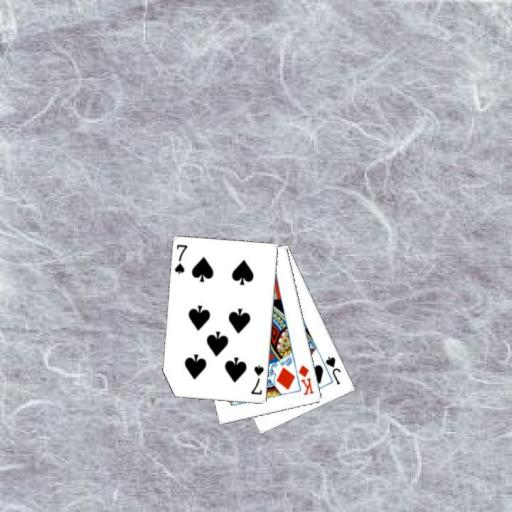7S: (248, 362, 265, 397), (172, 242, 189, 276)
JS: (322, 354, 343, 386)
KD: (296, 362, 316, 397)
